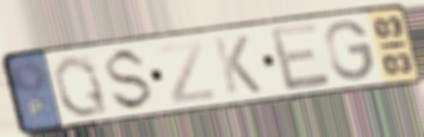E: (266, 19, 335, 94)
G: (322, 18, 376, 84)
K: (211, 33, 265, 96)
Q: (51, 53, 113, 120)
S: (104, 45, 157, 113)
Z: (155, 37, 217, 106)
